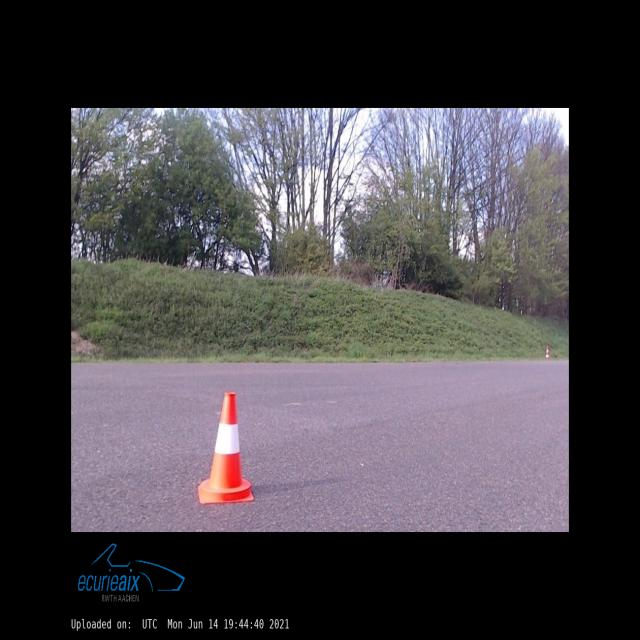large_orange_cone: (545, 344, 550, 359)
orange_cone: (198, 392, 254, 503)
